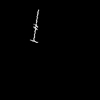treble_crochet: (34, 15, 37, 37)
